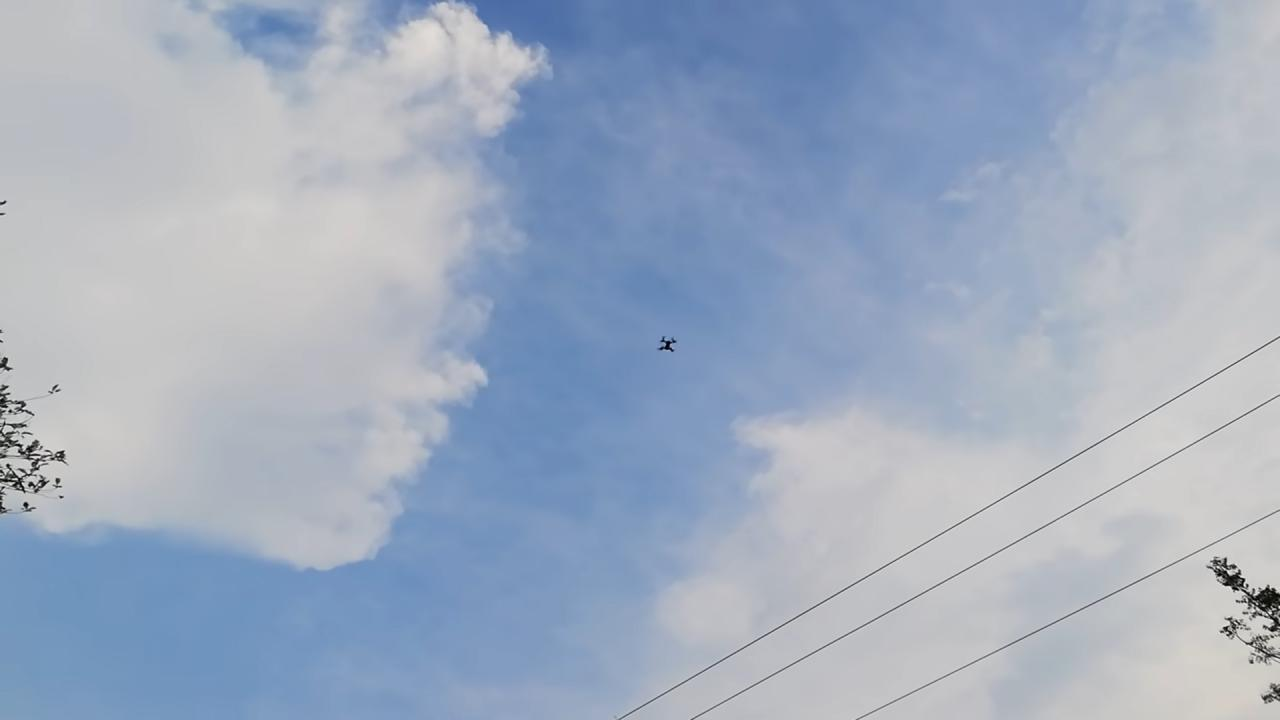Drone: (651, 328, 688, 356)
